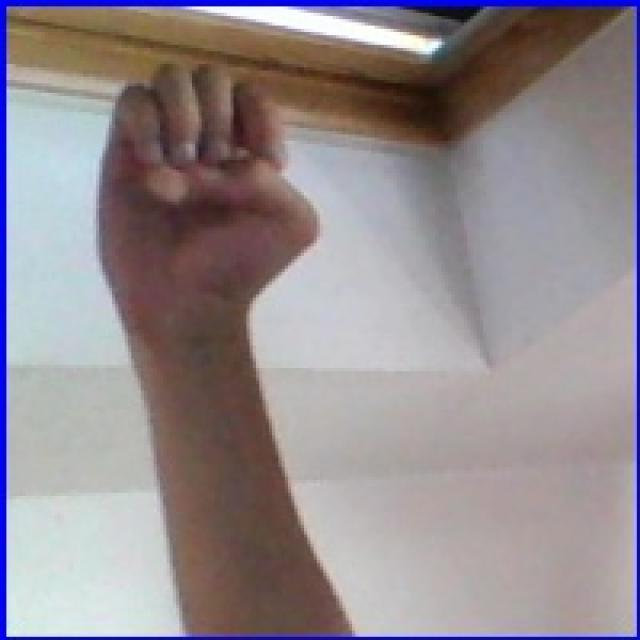Letra E: (83, 34, 341, 386)
